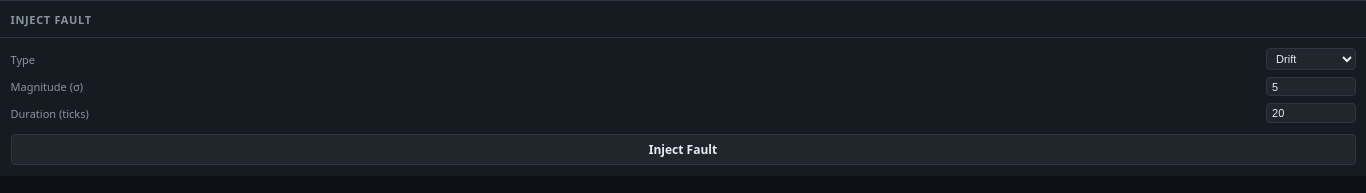
InjectControl › shows error state on failed inject
Click the button.
click(683, 149)  # box x1=10 y1=134 x2=1356 y2=165
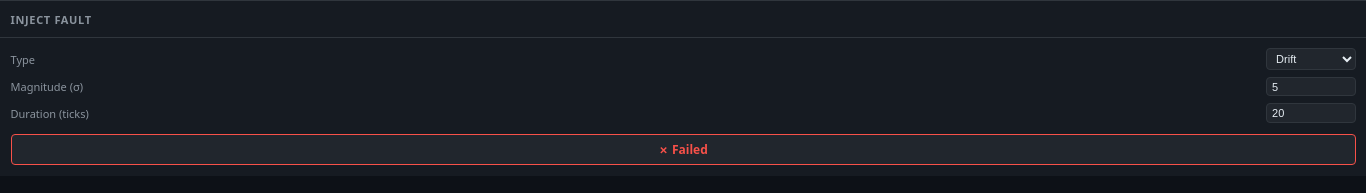
Expected: the button reads "✗ Failed", x1=10 y1=134 x2=1356 y2=165
